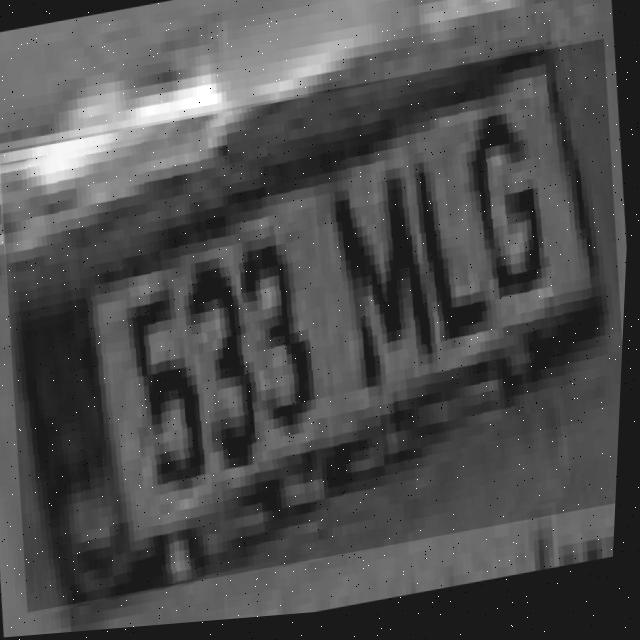LicensePlate: (0, 46, 637, 616)
